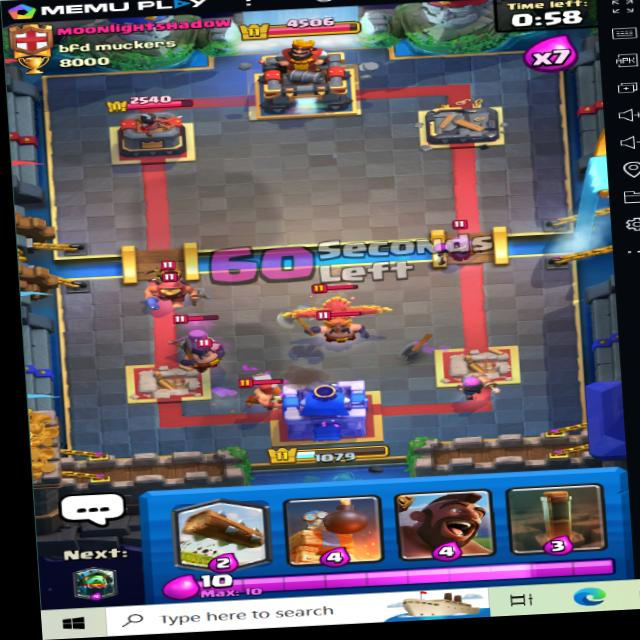Executioner: (297, 302, 377, 349), (173, 333, 232, 373)
Fisherman: (139, 264, 216, 314)
Littleprince: (142, 255, 192, 297)
Lumberjack: (235, 374, 296, 406)
Motherwitch: (165, 312, 240, 357), (431, 214, 489, 268)
Pheonix: (286, 281, 382, 336)
